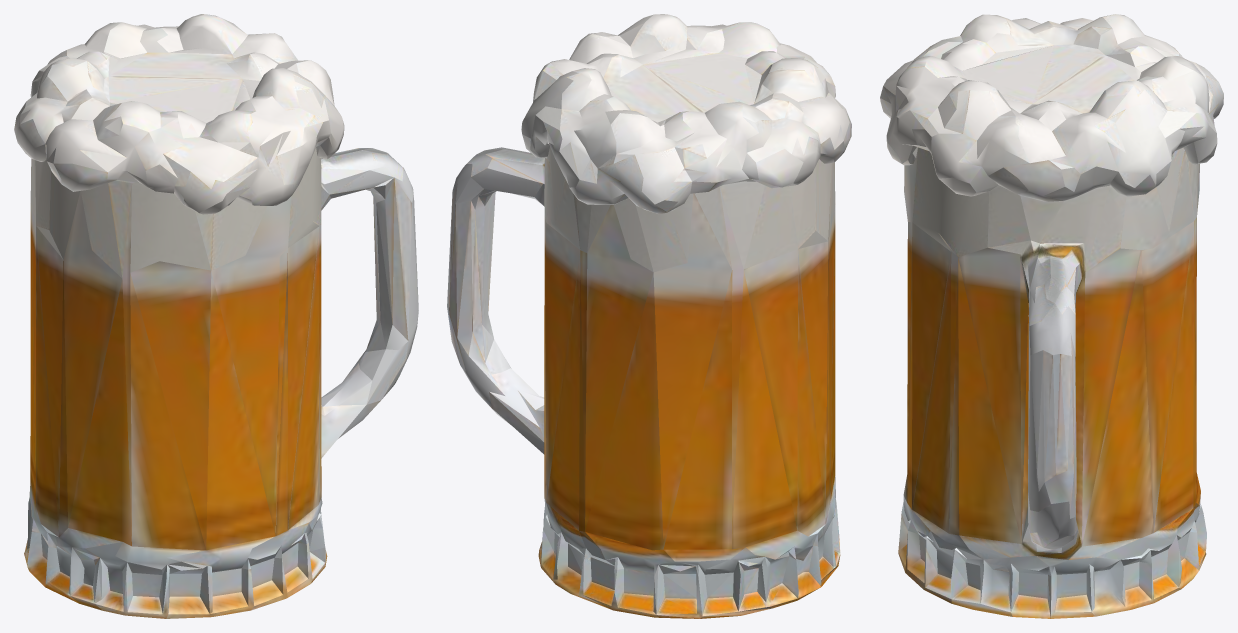
File: stein.glb
3 renders of one model, left to right at view 1: azimuth 30°, elevation 25°; view 2: azimuth 150°, elevation 25°; view 3: azimuth 270°, elevation 25°, orthographic.
Size of the model in its own units: 1.51 by 1.9 by 1.17.
Materials: 1 (1 with a texture image).
